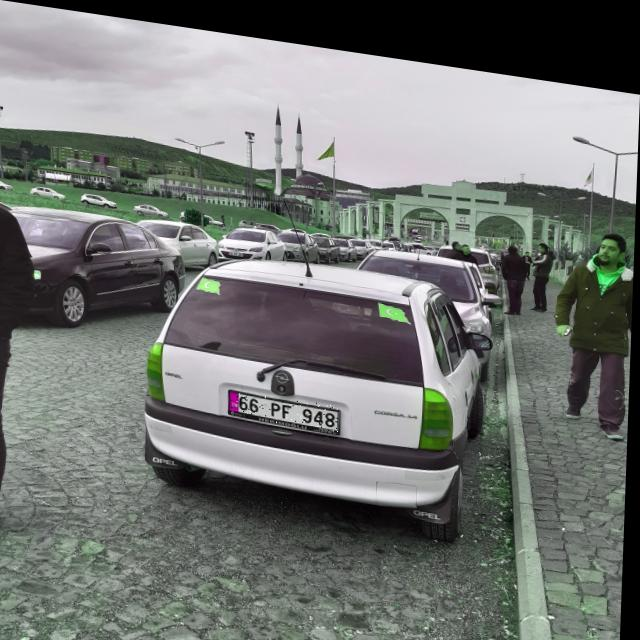license_plate: (232, 382, 342, 421)
